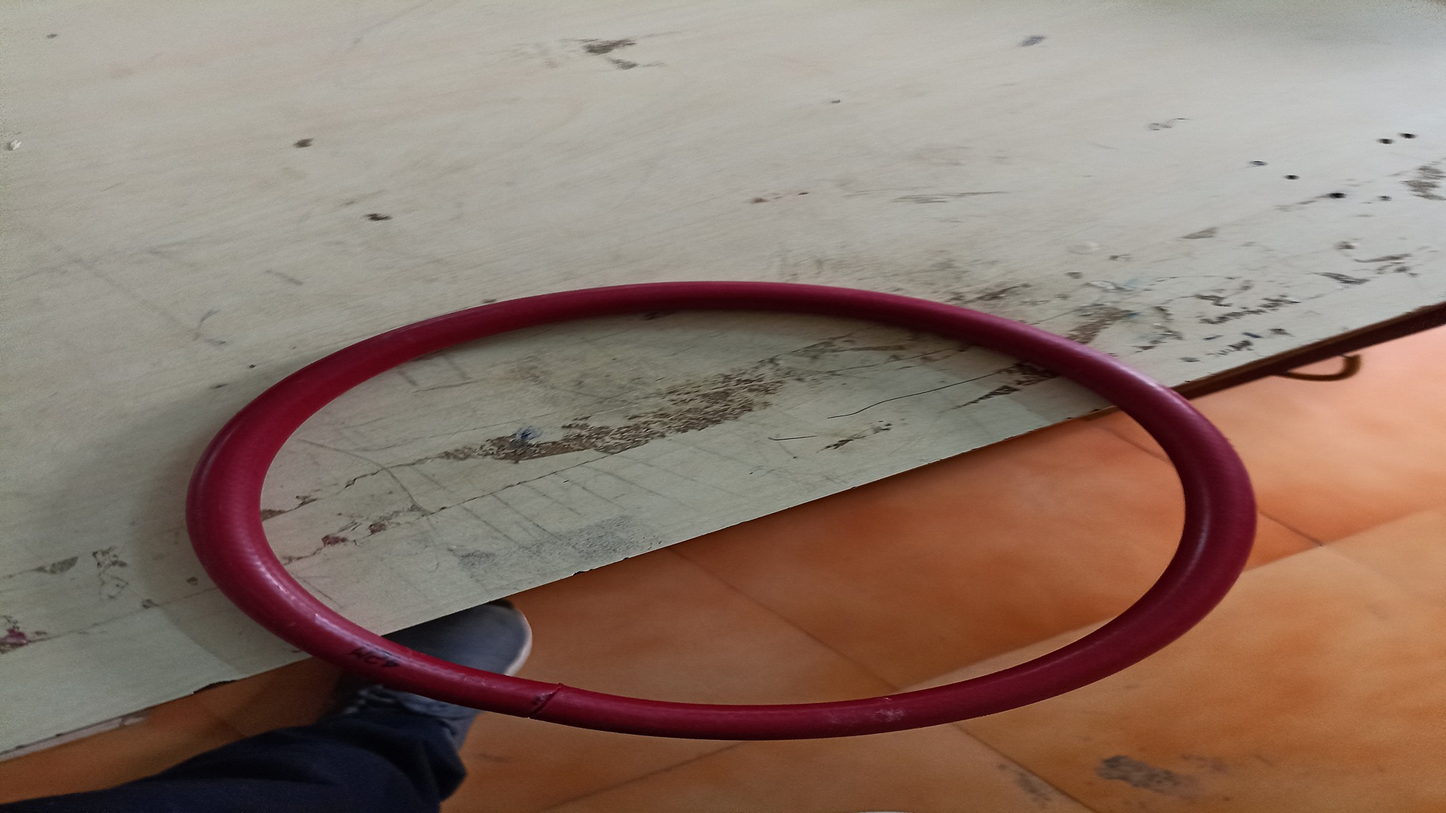Red ring: (191, 275, 1255, 734)
